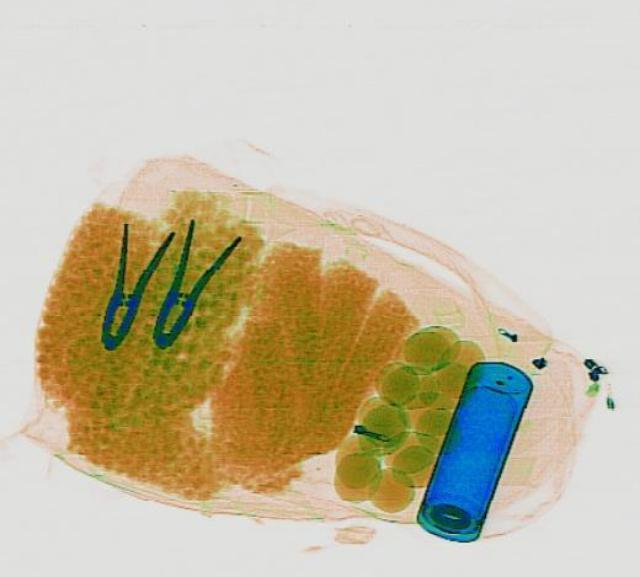Pliers: (132, 215, 244, 356), (78, 217, 174, 354)
